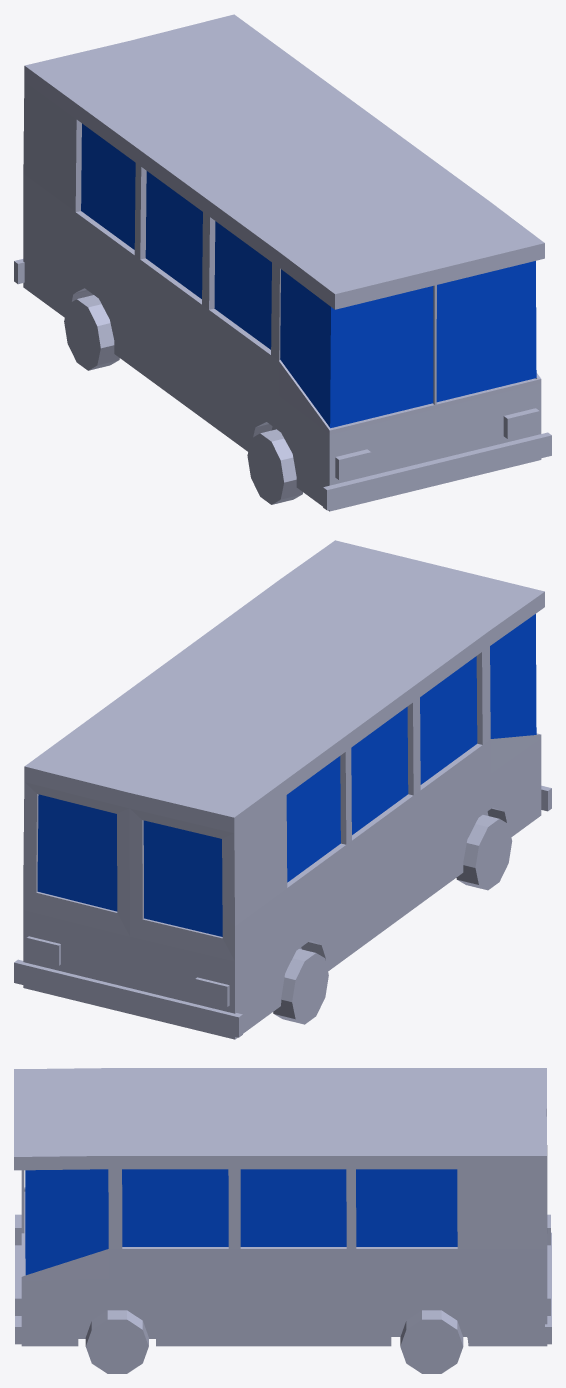
File: Bus.glb
3 renders of one model, top to bottom at view 1: azimuth 30°, elevation 25°; view 2: azimuth 150°, elevation 25°; view 3: azimuth 270°, elevation 25°, orthographic. The views are drawn at different scales.
Parts seen in each view (by area): view 1: Bus.004; view 2: Bus.004; view 3: Bus.004.
Boxes of the visible parts, bbox=[...] form: Bus.004: bbox=[14, 14, 551, 511]; Bus.004: bbox=[14, 540, 551, 1039]; Bus.004: bbox=[14, 1068, 551, 1373].
Size of the model in its own units: 0.9469 by 0.9909 by 2.26.
